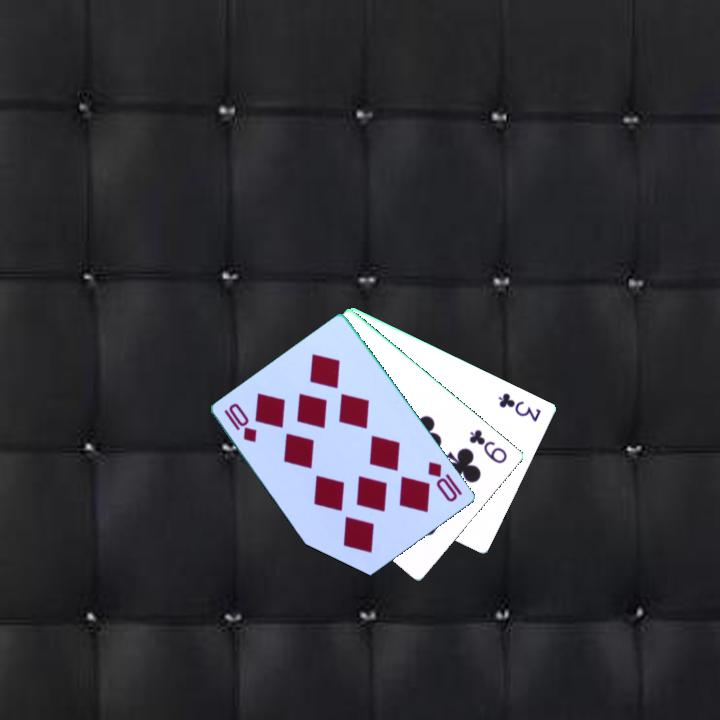10d: (424, 458, 466, 505), (221, 399, 260, 446)
3c: (495, 389, 544, 425)
9c: (466, 425, 511, 467)
